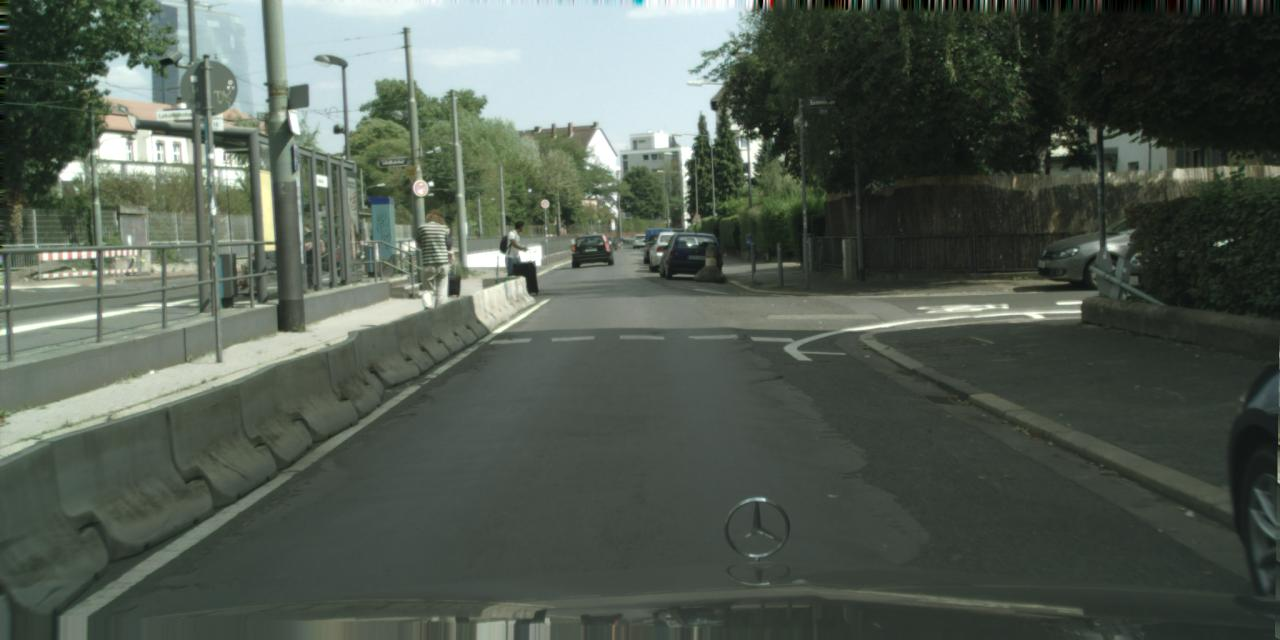ped: (414, 210, 457, 316), (502, 221, 531, 293), (432, 224, 459, 292), (585, 230, 589, 242), (592, 230, 596, 241)
